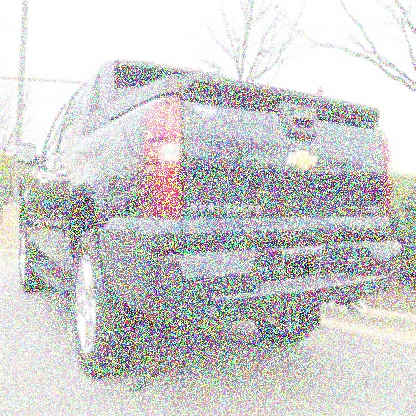Vehicle: (15, 56, 406, 384)
